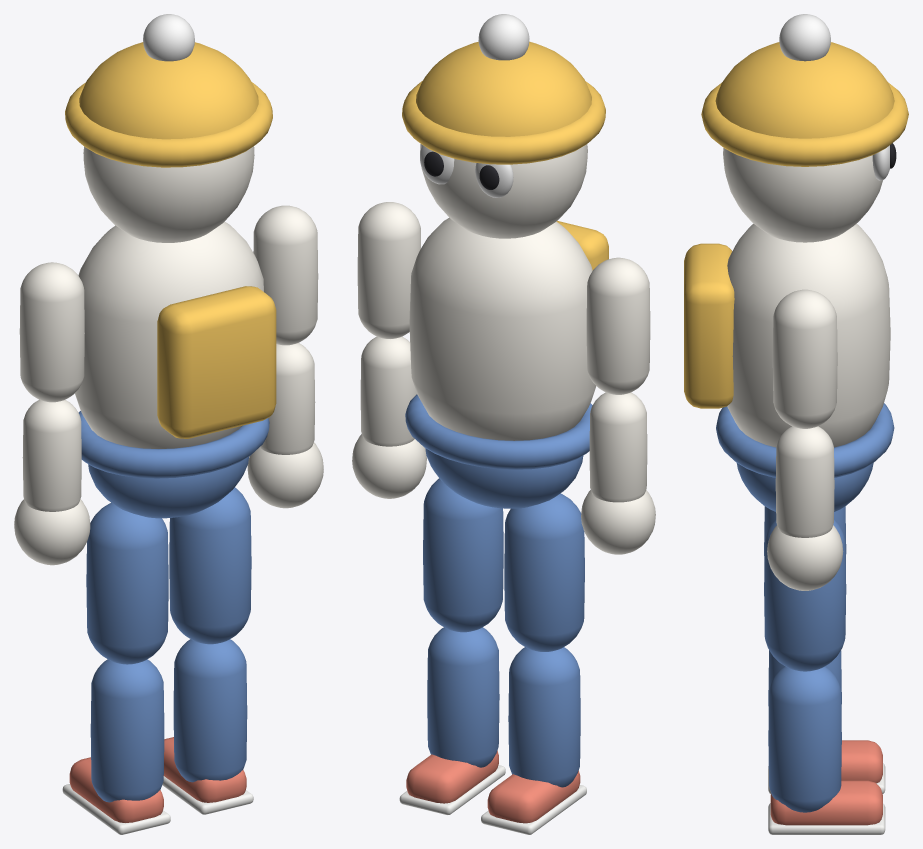
Rendered from character_nocto.glb.
3 views of the same model, side by side, from view 1: azimuth 30°, elevation 25°; view 2: azimuth 150°, elevation 25°; view 3: azimuth 270°, elevation 25° (orthographic).
Parts seen in each view (by area): view 1: torso, head, shin_l, shin_r, thigh_l, thigh_r, lower_arm_l, upper_arm_l, lower_arm_r, upper_arm_r, pelvis; view 2: torso, head, shin_l, shin_r, thigh_l, thigh_r, lower_arm_l, lower_arm_r, upper_arm_l, upper_arm_r, pelvis; view 3: torso, head, shin_r, lower_arm_r, upper_arm_r, thigh_r, shin_l, pelvis, thigh_l.
Part boxes in pixels (box(x1,y1,x2,y2)): torso: box(75, 221, 276, 478); head: box(65, 14, 272, 242); shin_l: box(62, 659, 170, 834); shin_r: box(162, 639, 253, 814); thigh_l: box(86, 502, 168, 664); thigh_r: box(169, 487, 251, 644); lower_arm_l: box(14, 399, 90, 565); upper_arm_l: box(19, 262, 84, 402); lower_arm_r: box(247, 343, 323, 508); upper_arm_r: box(253, 205, 318, 345); pelvis: box(88, 457, 248, 518); torso: box(405, 217, 608, 469); head: box(402, 14, 605, 238); shin_l: box(481, 647, 586, 834); shin_r: box(399, 627, 505, 814); thigh_l: box(504, 493, 584, 651); thigh_r: box(423, 478, 503, 632); lower_arm_l: box(581, 392, 655, 554); lower_arm_r: box(352, 336, 426, 498); upper_arm_l: box(586, 257, 650, 394); upper_arm_r: box(357, 202, 420, 338); pelvis: box(425, 448, 583, 508); torso: box(684, 223, 894, 477); head: box(701, 14, 908, 242); shin_r: box(768, 666, 885, 834); lower_arm_r: box(767, 426, 843, 590); upper_arm_r: box(772, 289, 837, 428); thigh_r: box(764, 519, 846, 671); shin_l: box(768, 650, 885, 793); pelvis: box(736, 463, 873, 511); thigh_l: box(764, 506, 846, 563).
Bounding box in the file's own units: 0.796 × 2.01 × 0.52.
